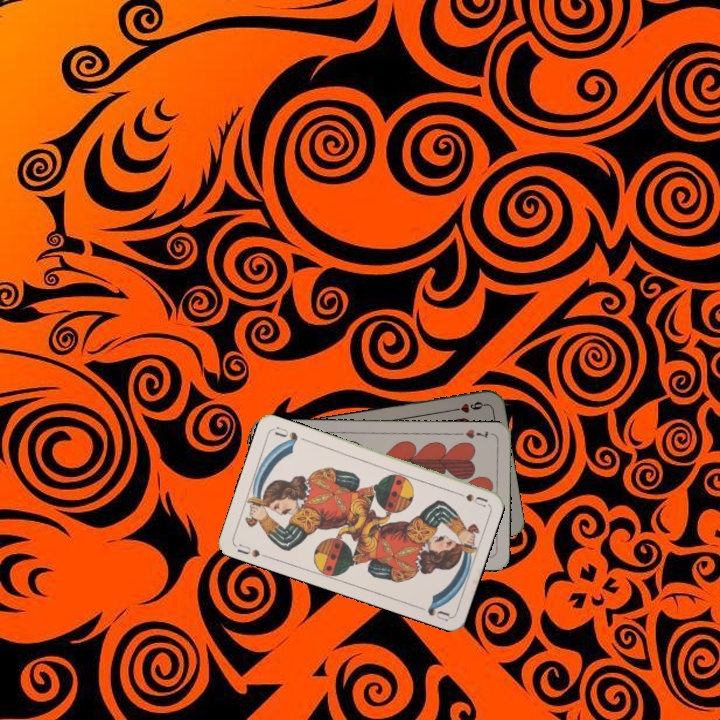H7: (454, 425, 491, 441)
H9: (448, 398, 488, 416)
SU: (449, 487, 490, 510), (233, 539, 263, 560)
